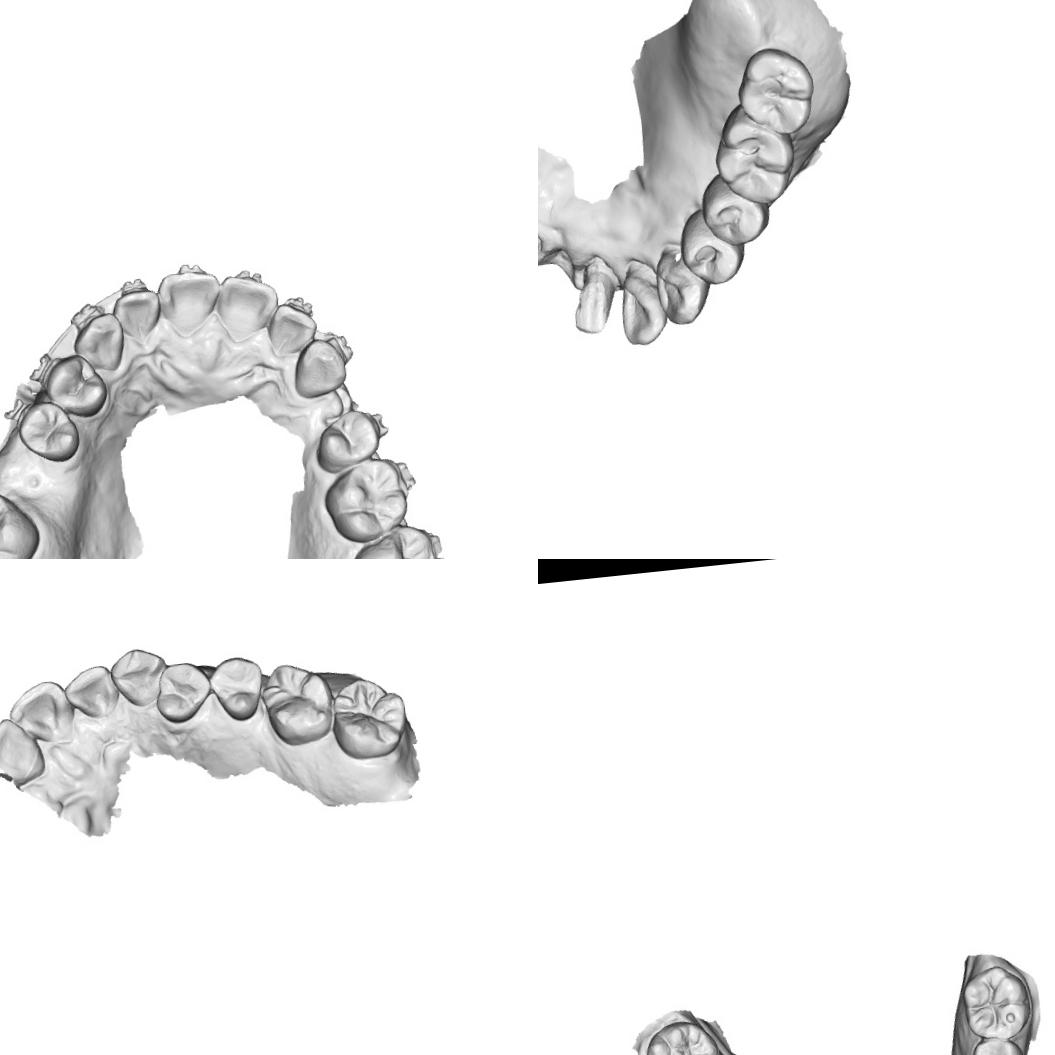canine: (106, 644, 172, 712), (653, 252, 707, 328), (288, 336, 348, 402), (70, 310, 128, 376)
crown: (566, 260, 620, 336)
incisor: (213, 270, 284, 344), (3, 678, 78, 747), (154, 266, 224, 339), (613, 258, 667, 348), (264, 294, 319, 360), (0, 714, 47, 787), (109, 285, 166, 344), (62, 664, 122, 720)
molar: (709, 101, 799, 211), (319, 452, 417, 546), (732, 42, 819, 140), (327, 674, 412, 764), (258, 658, 336, 750), (958, 960, 1036, 1046), (345, 521, 442, 559), (641, 1015, 728, 1055), (0, 482, 44, 559)
premolar: (698, 168, 775, 250), (676, 204, 748, 288), (308, 405, 384, 478), (39, 349, 112, 423), (14, 396, 84, 468), (207, 653, 268, 726), (150, 660, 216, 727), (966, 1032, 1027, 1055)
